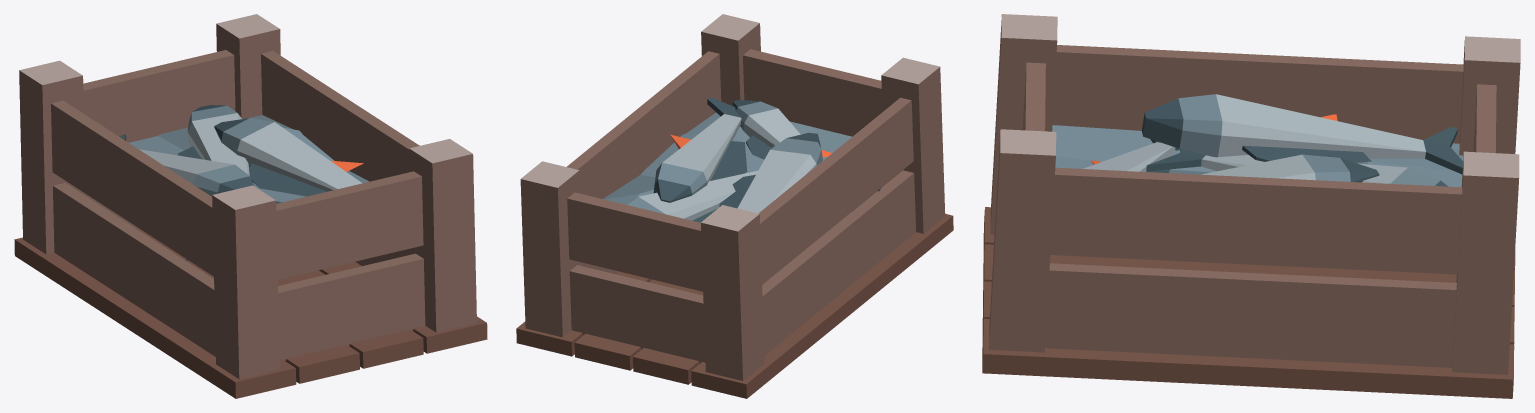
The model's file is props_045.glb.
3 views of the same model, side by side, from view 1: azimuth 30°, elevation 25°; view 2: azimuth 150°, elevation 25°; view 3: azimuth 270°, elevation 25° (orthographic). The views are drawn at different scales.
Visible parts, largest first — view 1: props_045; view 2: props_045; view 3: props_045.
Part boxes in pixels (x1,y1,x2,y2): props_045: (14,14,487,398); props_045: (516,14,953,398); props_045: (982,14,1520,398).
Bounding box in the file's own units: 1.21 × 0.9286 × 1.87.
1 material, 1 textured.
